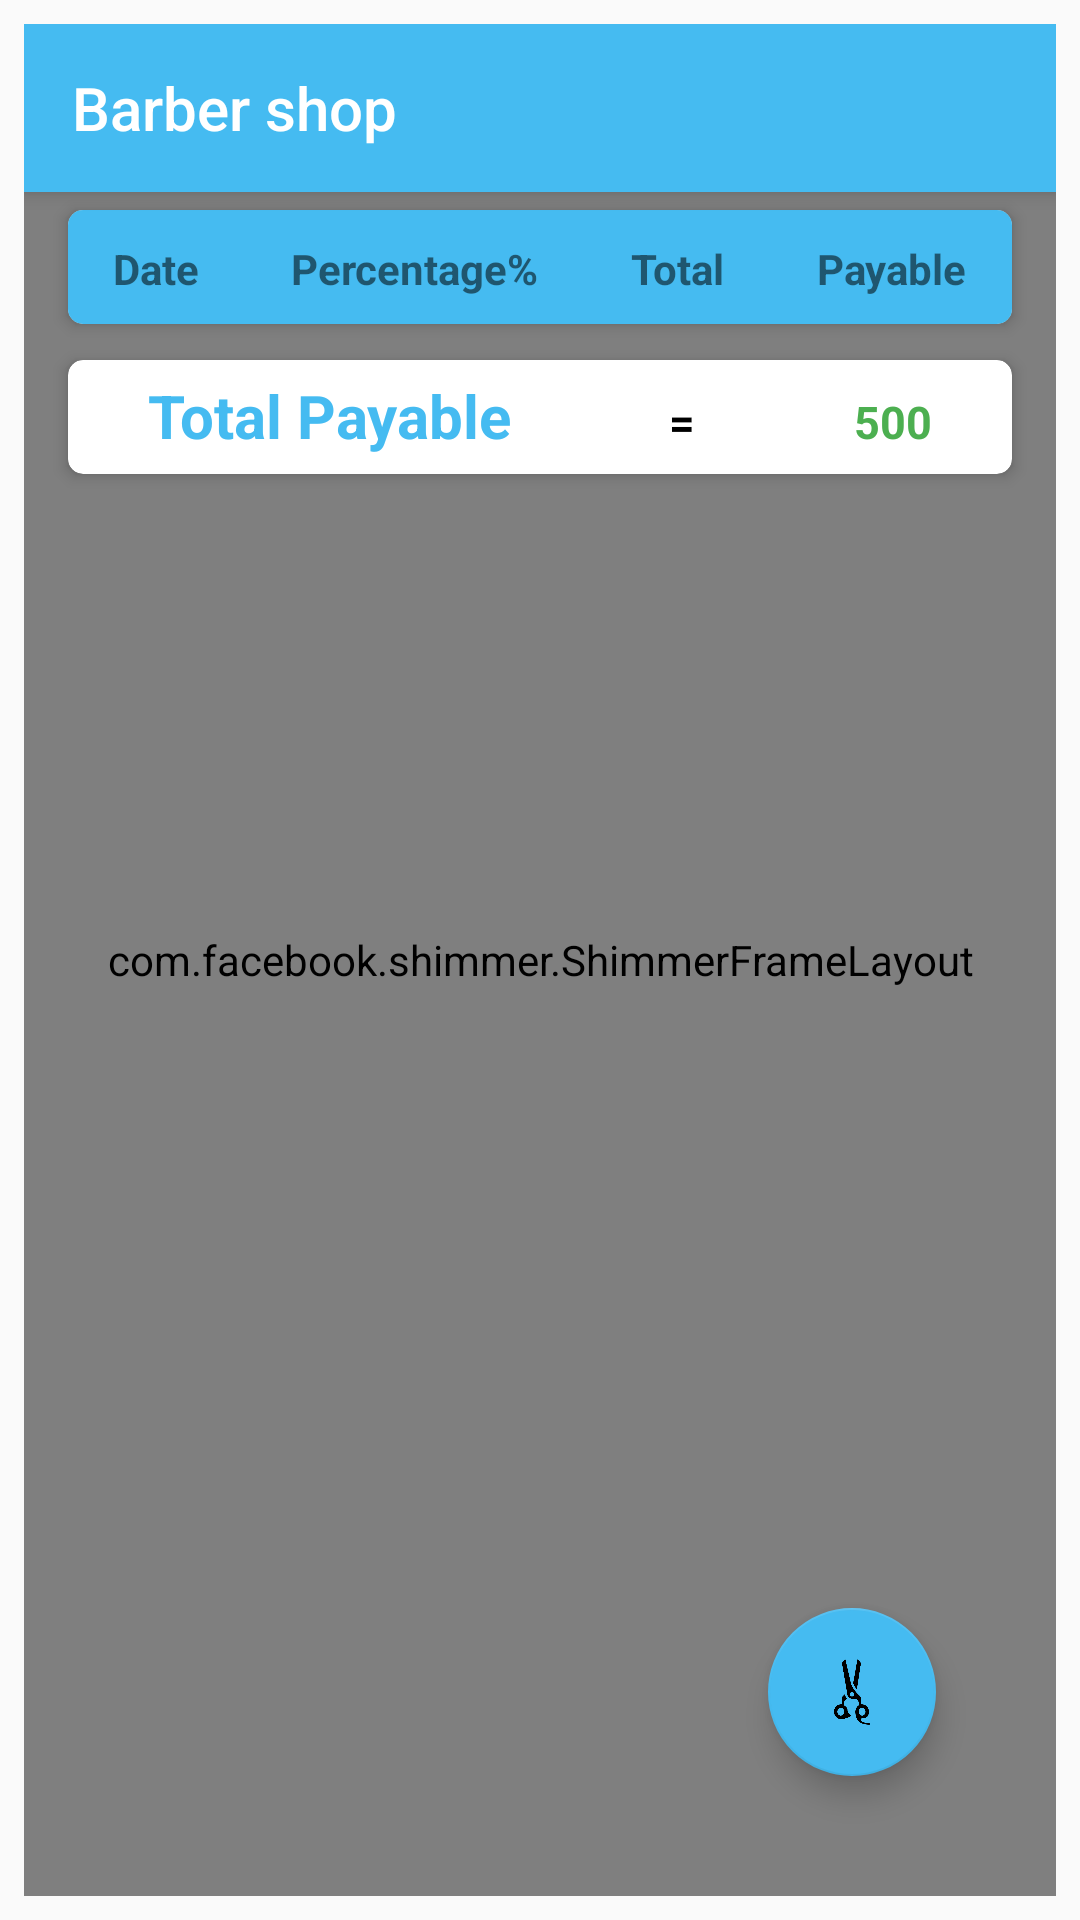

Where icons sit on this 1080px x 1920px app screen, as (left=x1, top=y1, right=x2, bottom=y2):
scissors: (left=768, top=1608, right=936, bottom=1776)
